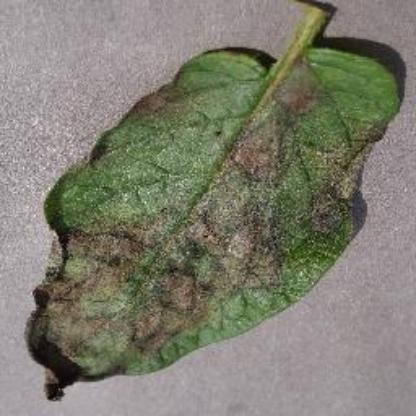Late-Blight: (27, 5, 406, 400)
